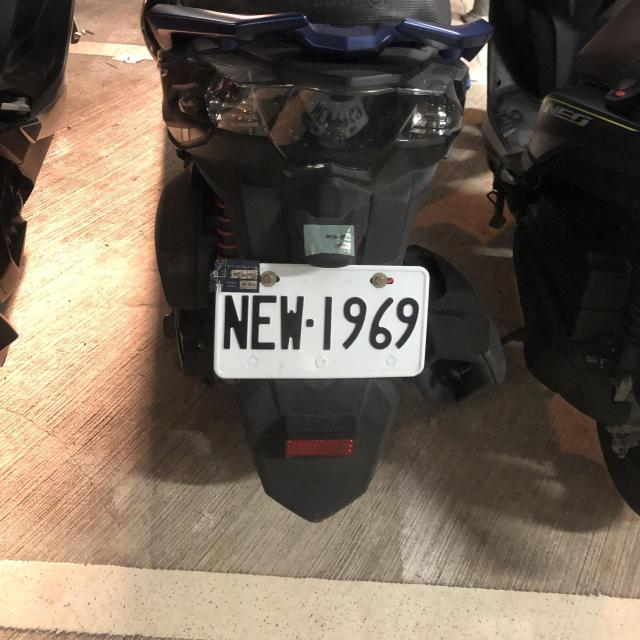W: (212, 261, 426, 380)
